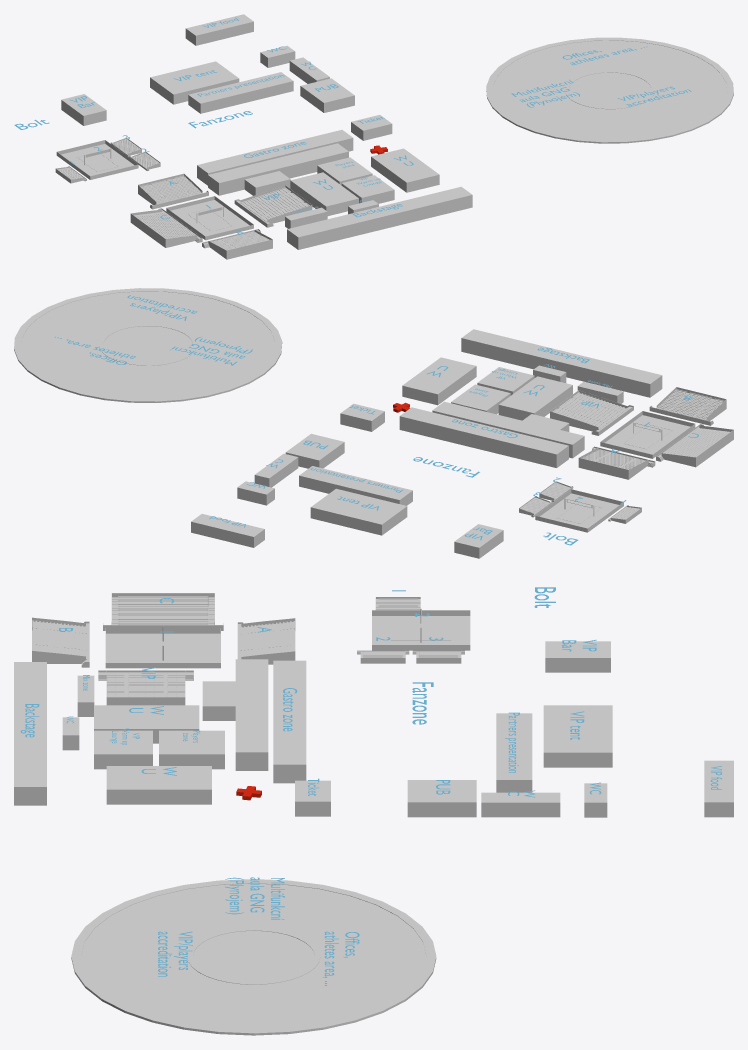
Rendered from Beach_area3.gltf.
3 renders of one model, top to bottom at view 1: azimuth 30°, elevation 25°; view 2: azimuth 150°, elevation 25°; view 3: azimuth 270°, elevation 25°, orthographic. The views are drawn at different scales.
Parts seen in each view (by area): view 1: Cylinder.002, Area_gastro.007, Area_gastro.001, Area_gastro.013, Area_gastro, Area_gastro.014, Volleyball_court.001, Area_gastro.006, Public_B.001, Area_gastro.003, Cube.380, Cube.861 (+13 smaller); view 2: Cylinder.002, Area_gastro.007, Area_gastro, Area_gastro.014, Volleyball_court.001, Area_gastro.001, Area_gastro.006, Public_B.001, Area_gastro.013, Area_gastro.003, Cube.380, Volleyball_court (+12 smaller); view 3: Cylinder.002, Area_gastro.007, Area_gastro.014, Area_gastro.006, Area_gastro, Volleyball_court.001, Area_gastro.001, Cube.380, Volleyball_court, Public_B.001, Area_gastro.013, Area_gastro.003 (+14 smaller).
Boxes of the visible parts, x1,y1,x2,y2 form: Cylinder.002: (486,37,733,143); Area_gastro.007: (287,186,472,249); Area_gastro.001: (208,143,348,195); Area_gastro.013: (188,72,293,113); Area_gastro: (197,130,353,185); Area_gastro.014: (150,61,239,104); Volleyball_court.001: (56,140,138,179); Area_gastro.006: (371,148,439,192); Public_B.001: (234,185,312,227); Area_gastro.003: (290,172,358,215); Cube.380: (130,208,202,247); Cube.861: (138,173,208,209); Cylinder.002: (14,288,282,402); Area_gastro.007: (461,329,662,397); Area_gastro: (399,407,568,467); Area_gastro.014: (310,488,407,535); Volleyball_court.001: (535,489,623,532); Area_gastro.001: (432,401,584,458); Area_gastro.006: (402,357,476,405); Public_B.001: (550,390,633,435); Area_gastro.013: (299,466,412,505); Area_gastro.003: (498,376,572,420); Cube.380: (656,424,733,467); Volleyball_court: (605,415,690,454); Cylinder.002: (71,879,436,1035); Area_gastro.007: (14,662,46,805); Area_gastro.014: (543,705,612,767); Area_gastro.006: (106,766,211,804); Area_gastro: (273,660,306,783); Volleyball_court.001: (372,608,470,650); Area_gastro.001: (235,659,268,770); Cube.380: (103,593,223,630); Volleyball_court: (106,633,220,662); Public_B.001: (98,670,193,705); Area_gastro.013: (496,713,532,792); Area_gastro.003: (94,705,199,743).
Size of the model in its own units: 500 by 11.5 by 350.
